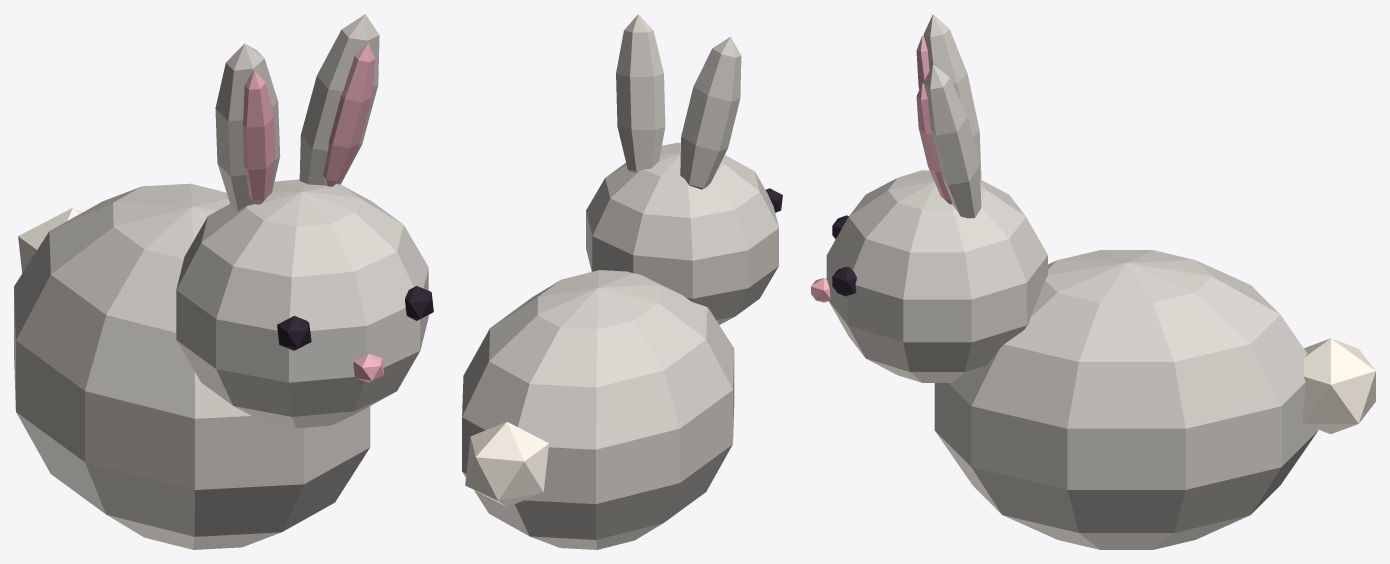
File: bunny.glb
3 views of the same model, side by side, from view 1: azimuth 30°, elevation 25°; view 2: azimuth 150°, elevation 25°; view 3: azimuth 270°, elevation 25° (orthographic). The views are drawn at different scales.
Visible parts, largest first — view 1: bunny; view 2: bunny; view 3: bunny.
Part boxes in pixels (x1,y1,x2,y2): bunny: (14, 14, 433, 549); bunny: (462, 14, 782, 549); bunny: (811, 14, 1375, 549).
Size of the model in its own units: 0.3709 by 0.726 by 0.7466.
